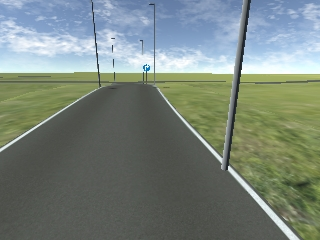right: (142, 64, 152, 72)
